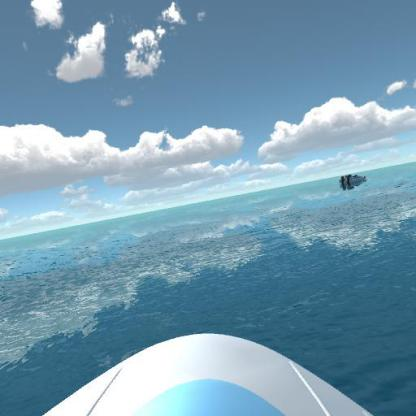usv1: (336, 168, 372, 192)
